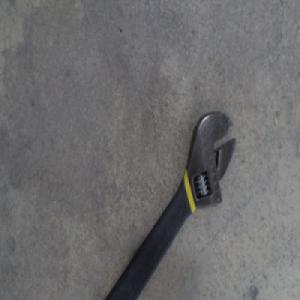AdjustableWrench: (104, 111, 238, 299)
